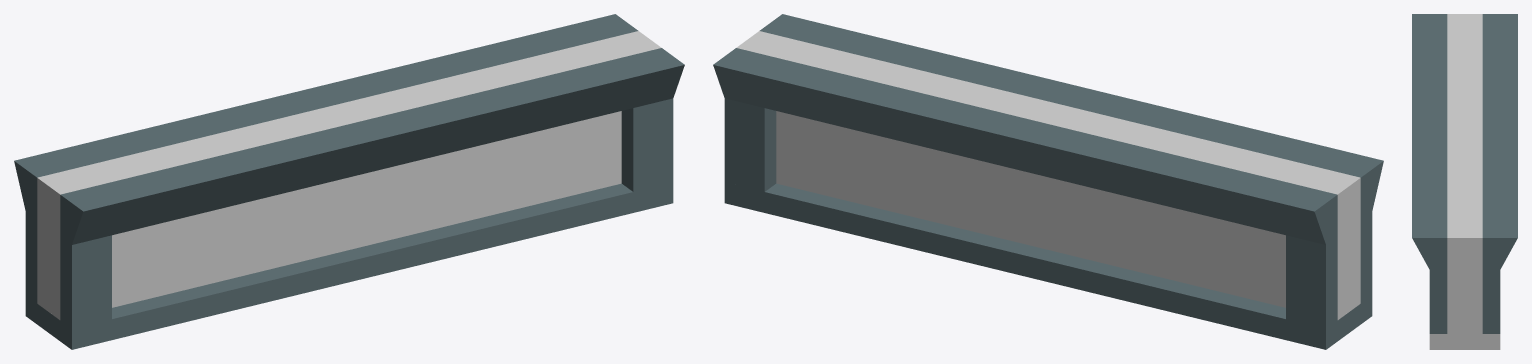
The model's file is scifi_wall_top.fbx.
3 renders of one model, left to right at view 1: azimuth 30°, elevation 25°; view 2: azimuth 150°, elevation 25°; view 3: azimuth 270°, elevation 25°, orthographic. The views are drawn at different scales.
Parts seen in each view (by area): view 1: Cube.048; view 2: Cube.048; view 3: Cube.048.
Boxes of the visible parts, bbox=[...] form: Cube.048: bbox=[14, 14, 684, 349]; Cube.048: bbox=[713, 14, 1383, 349]; Cube.048: bbox=[1412, 14, 1517, 349].
Size of the model in its own units: 3 by 0.7 by 0.6.
